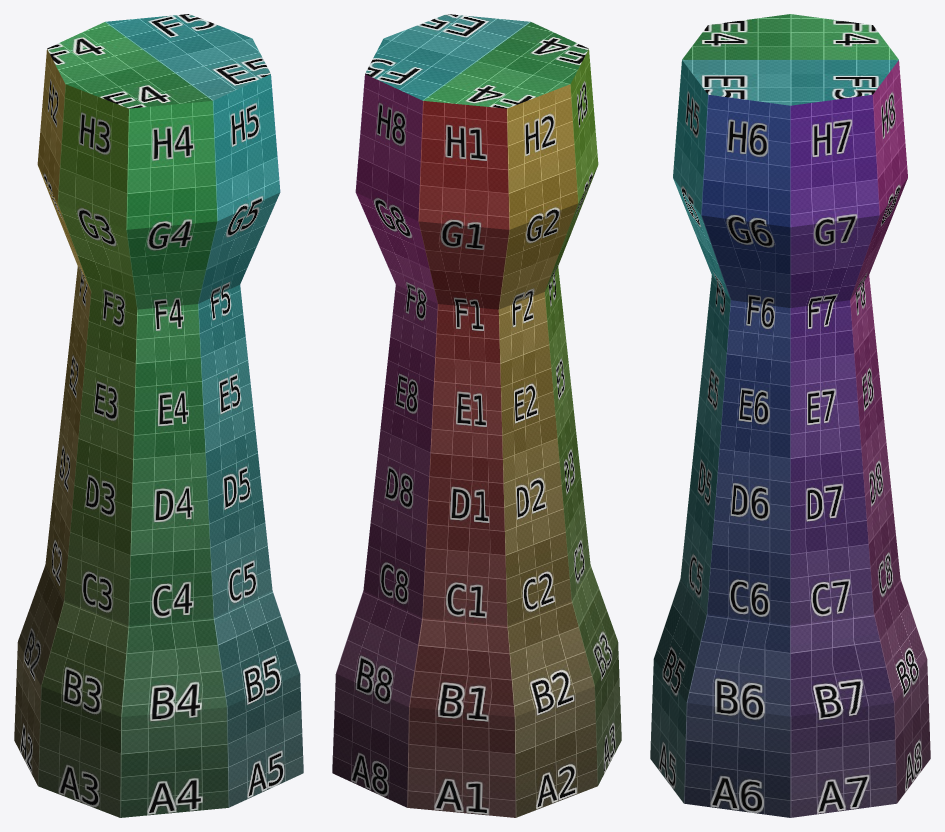
File: player.gltf
3 views of the same model, side by side, from view 1: azimuth 30°, elevation 25°; view 2: azimuth 150°, elevation 25°; view 3: azimuth 270°, elevation 25° (orthographic).
Visible parts, largest first — view 1: Plane; view 2: Plane; view 3: Plane.
Part boxes in pixels (x1,y1,x2,y2): Plane: (14,14,303,817); Plane: (332,14,621,817); Plane: (650,14,930,817).
Bounding box in the file's own units: 0.6897 × 1.9 × 0.6897.
Materials: 1 (1 with a texture image).
